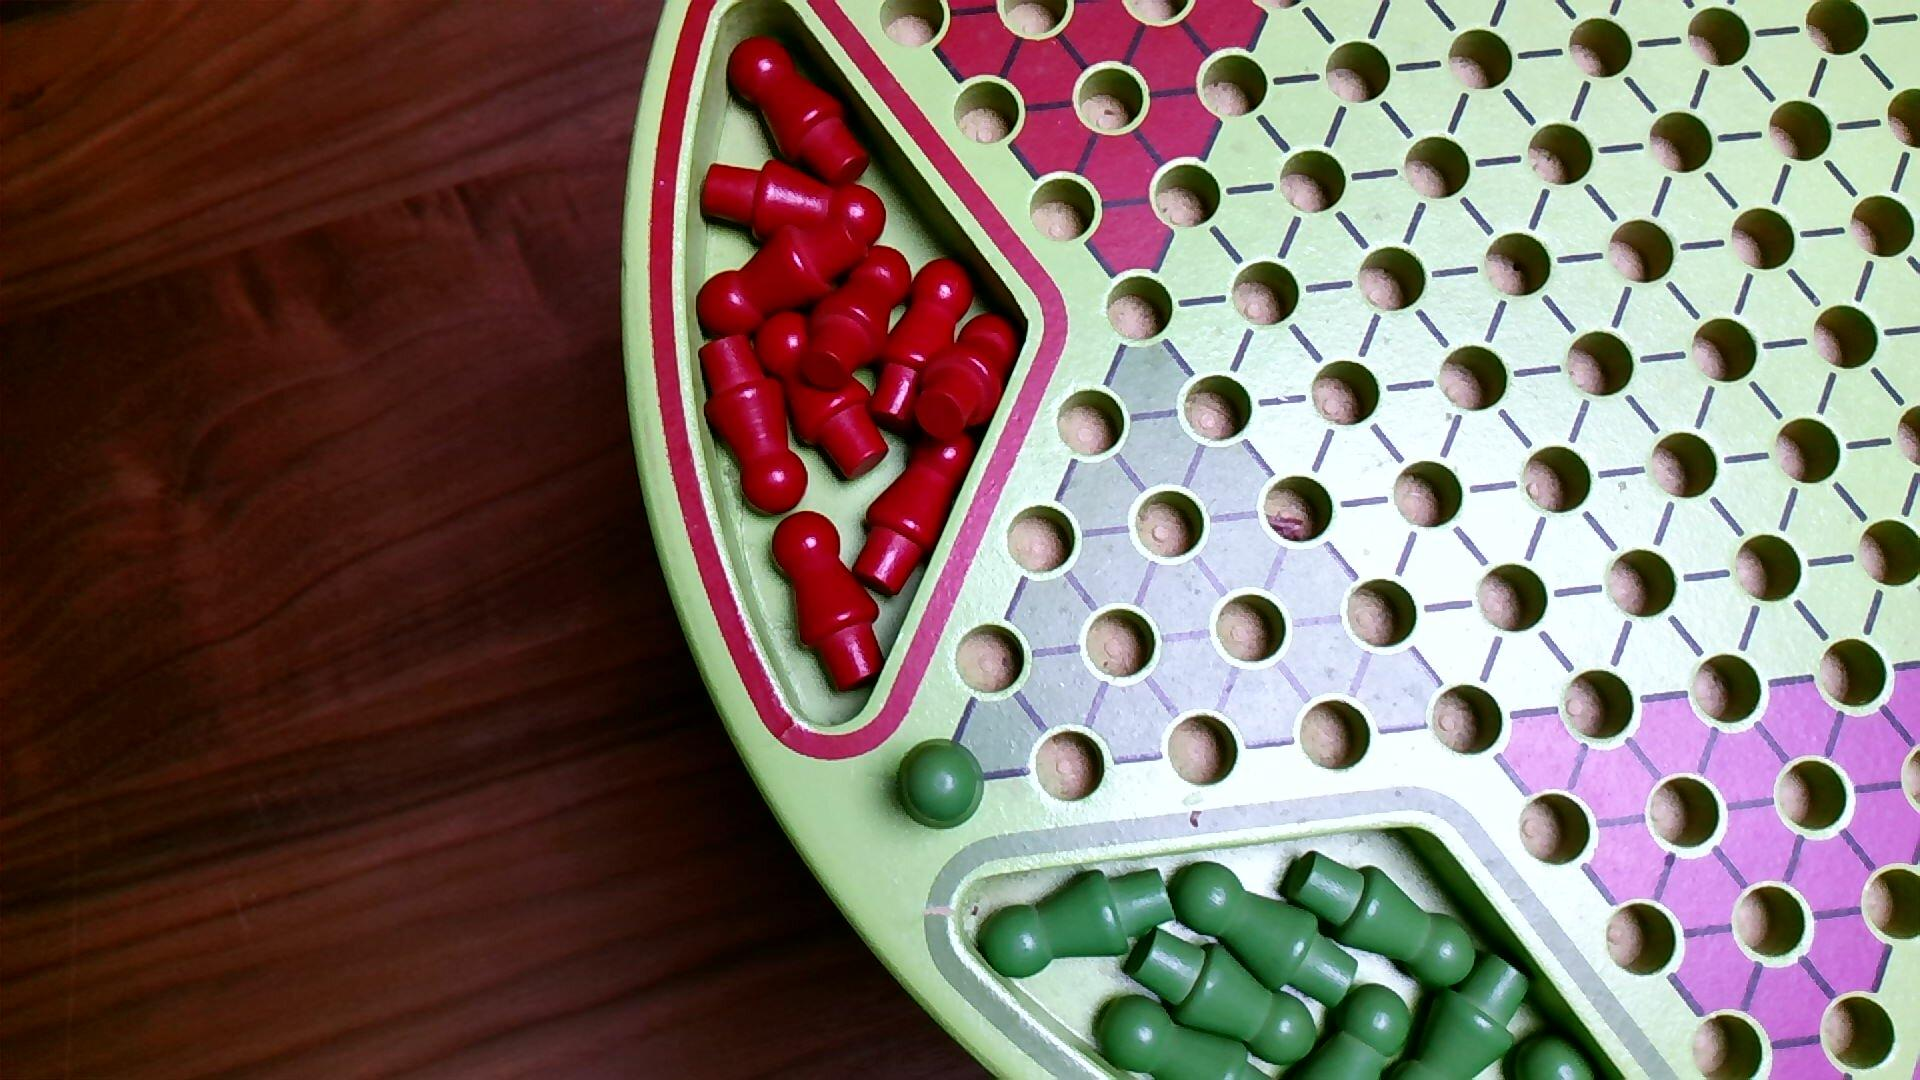R2: (893, 736, 988, 833)
